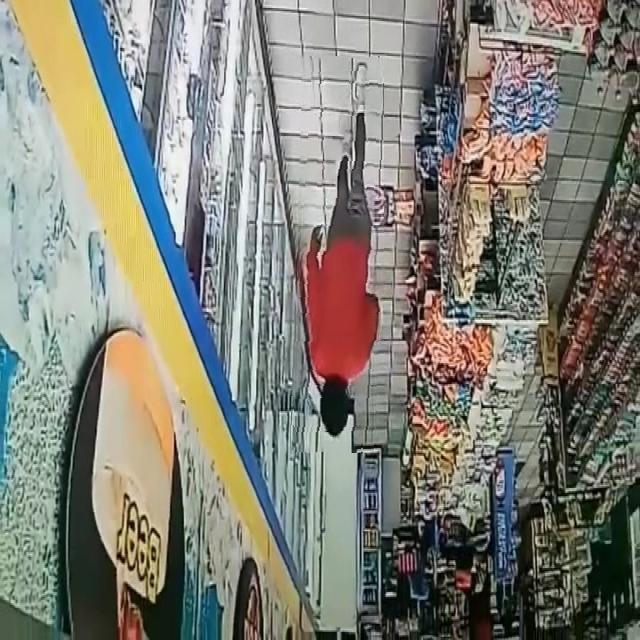Normal: (293, 56, 384, 453)
